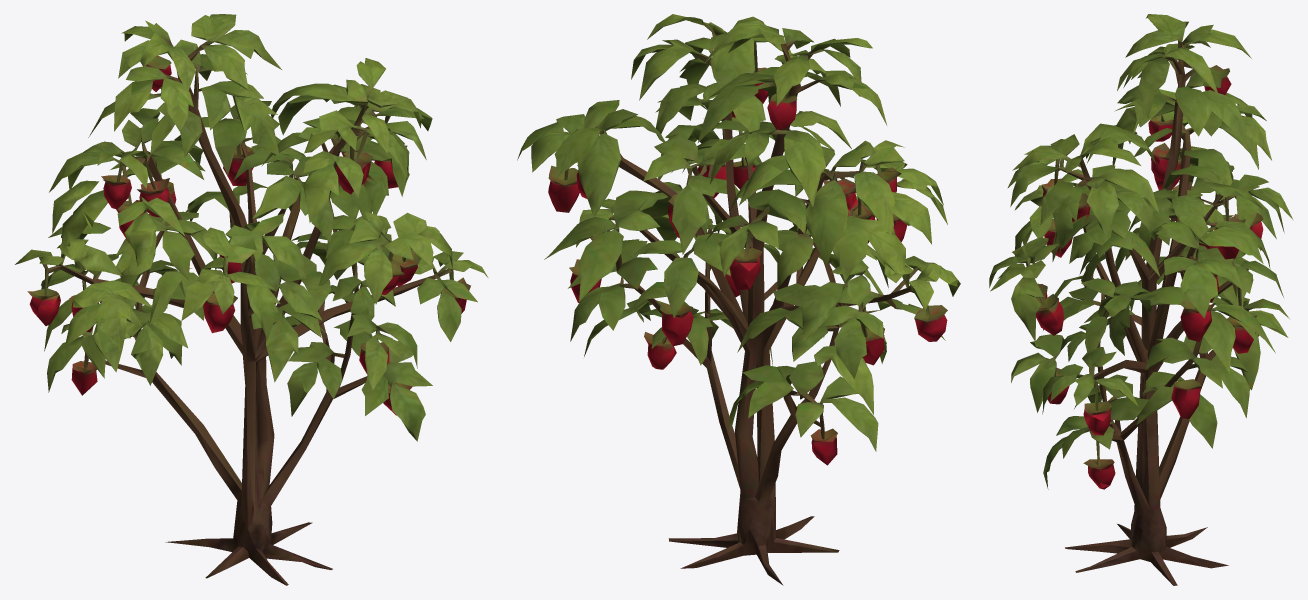
Rendered from bush_berry_malina_idle.glb.
3 views of the same model, side by side, from view 1: azimuth 30°, elevation 25°; view 2: azimuth 150°, elevation 25°; view 3: azimuth 270°, elevation 25° (orthographic). The views are drawn at different scales.
Parts seen in each view (by area): view 1: tripo_node_6bbf92d5-fd7d-4117-8589-9f4080544391; view 2: tripo_node_6bbf92d5-fd7d-4117-8589-9f4080544391; view 3: tripo_node_6bbf92d5-fd7d-4117-8589-9f4080544391.
Part boxes in pixels (<box>): tripo_node_6bbf92d5-fd7d-4117-8589-9f4080544391: <box>15,14,488,585</box>; tripo_node_6bbf92d5-fd7d-4117-8589-9f4080544391: <box>517,14,960,585</box>; tripo_node_6bbf92d5-fd7d-4117-8589-9f4080544391: <box>989,14,1293,585</box>.
Size of the model in its own units: 0.5644 by 0.6993 by 0.3874.
Materials: 1 (1 with a texture image).
